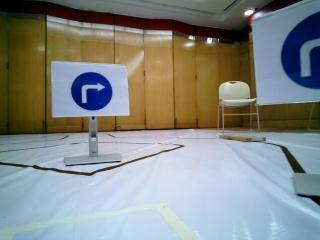right: (256, 21, 320, 91), (55, 63, 127, 114)
